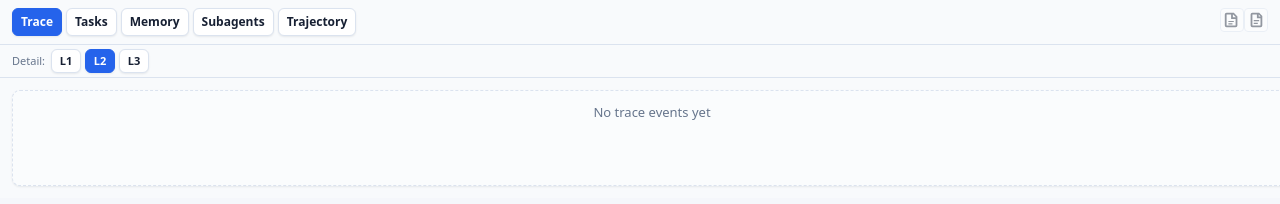
it: TraceTimeline › audit anchors: exposes stable tasks tab pilot selector
The width and height of the screenshot is (1280, 204).
Click the button with test id "trace-tab-tasks" at (91, 22), box [66,8,117,36]
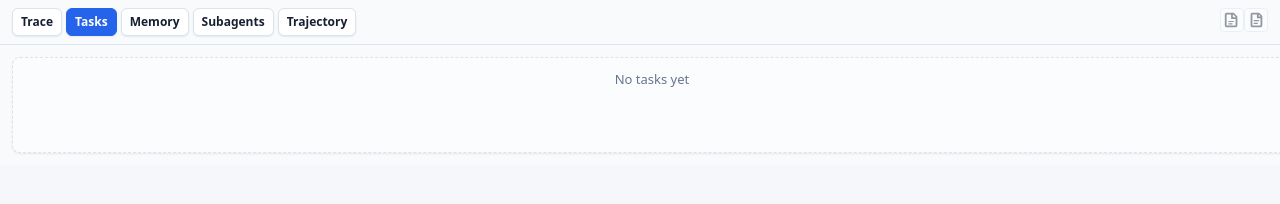
Check: the element with test id "task-steps" is shown, box [0,45,1279,165]
